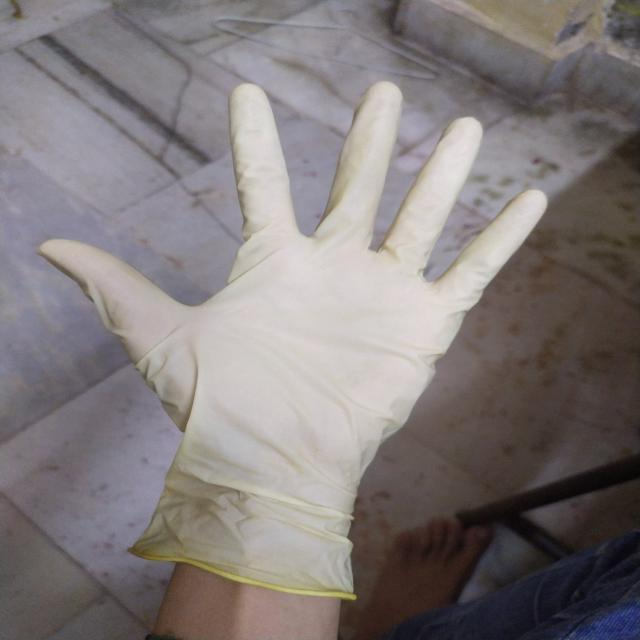glove_hand: (34, 71, 549, 608)
